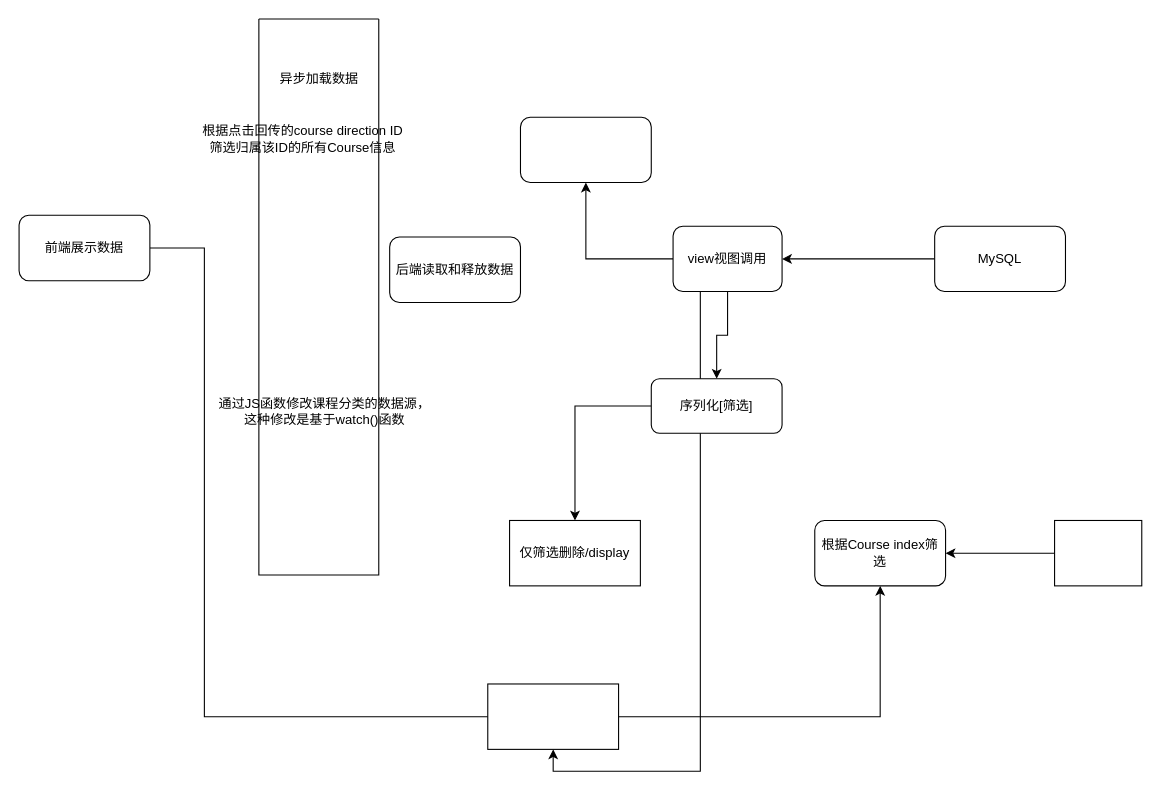
Image size: 1161x799. Some labels were removed from this diagram. The centre of each missing label's shape, as x and y in pixels:
"URL" goes at point 585,149.
"URL传参" goes at point 553,716.
"重写queryset数据集" goes at point 1097,552.
